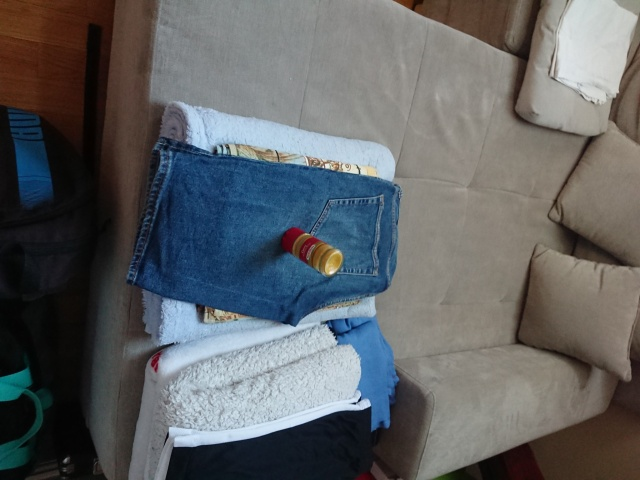Kotanyi Curry Spices Mix 70g: (279, 226, 345, 279)
